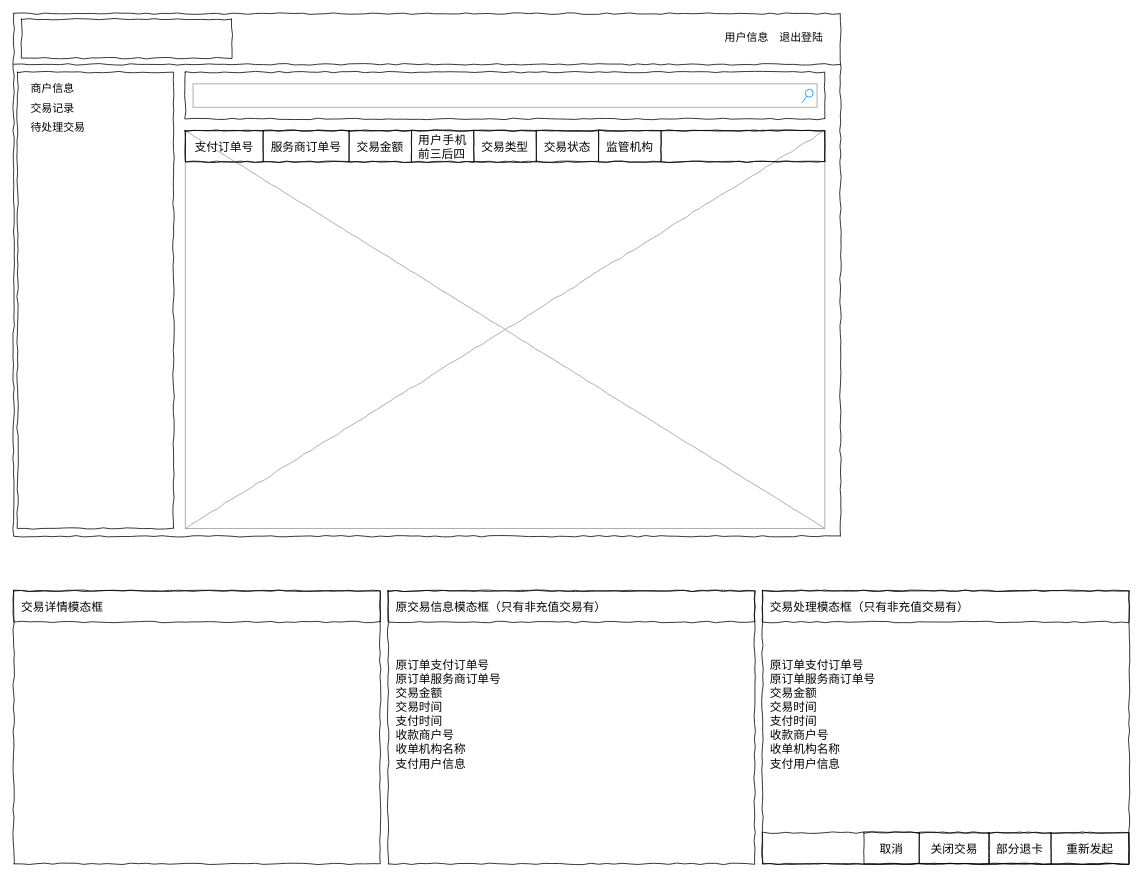
The diagram is 1143 pixels wide and 877 high, and some of its shapes have lost their labels. The box of each missing label's shape, as (x1, y1, x2, y2) in pixels:
交易类型、服务商订单号、支付订单号、支付用户手机号、交易时间、交易状态: (192, 83, 817, 107)
操作 交易详情、原交易信息: (660, 130, 825, 162)
放心充资金监管平台: (21, 18, 232, 58)
比列表数据多出 监管账号信息 结算账号信息 收单账号信息 请求时间 借贷属性 用户确认时间 用户头像 用户名: (13, 590, 380, 864)
